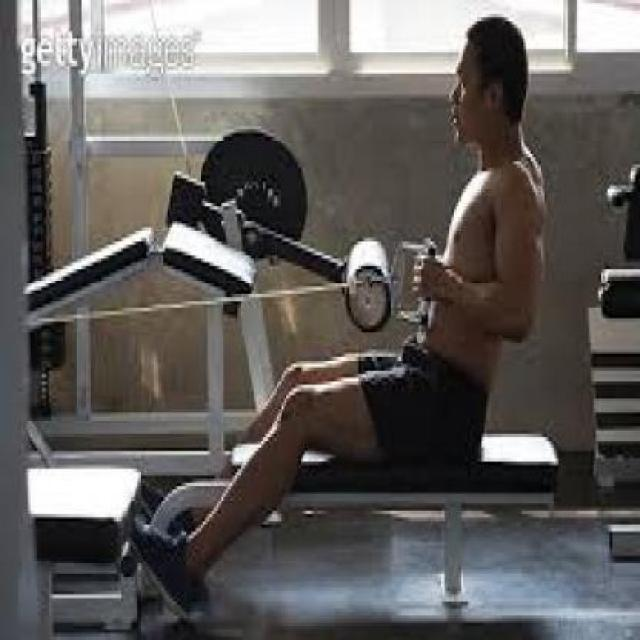Seated Cable Rows: (22, 14, 569, 632)
